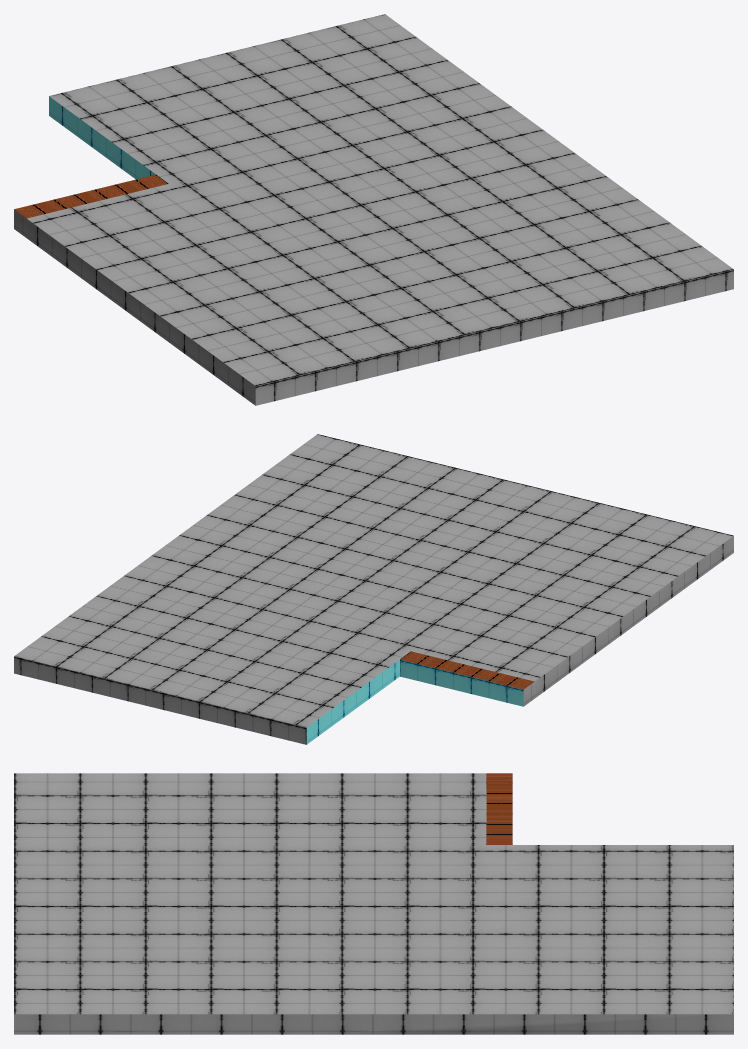
The model's file is Casa_INTERIOR_suelo_atico.fbx.
3 views of the same model, one above another, from view 1: azimuth 30°, elevation 25°; view 2: azimuth 150°, elevation 25°; view 3: azimuth 270°, elevation 25° (orthographic). The views are drawn at different scales.
Parts seen in each view (by area): view 1: Casa_INTERIOR_suelo_atico; view 2: Casa_INTERIOR_suelo_atico; view 3: Casa_INTERIOR_suelo_atico.
Part boxes in pixels (left/top/right/bottom): Casa_INTERIOR_suelo_atico: left=14, top=14, right=733, bottom=405; Casa_INTERIOR_suelo_atico: left=14, top=434, right=733, bottom=744; Casa_INTERIOR_suelo_atico: left=14, top=773, right=733, bottom=1034.
Bounding box in the file's own units: 9.86 × 0.3892 × 12.45.
